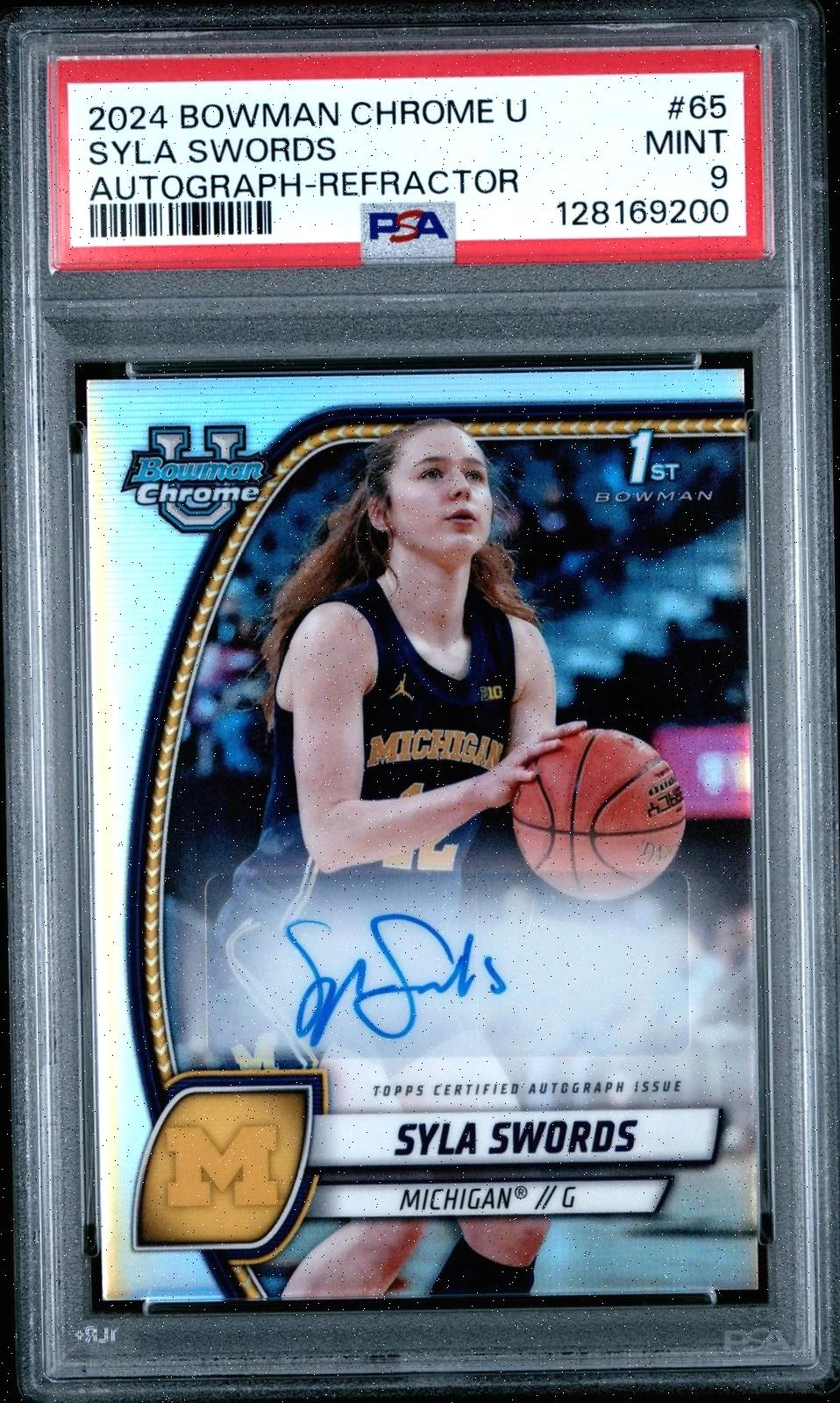card-2UtV: (85, 367, 759, 1301)
